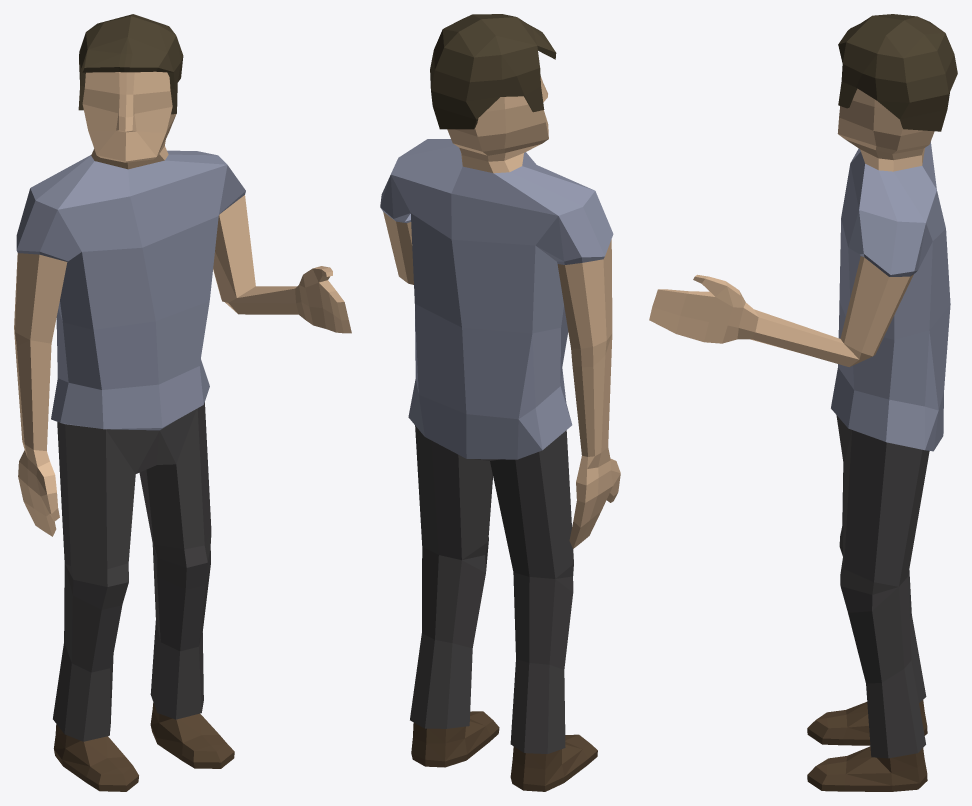
Rendered from Male_Crowd_Chatting.glb.
The picture shows the model from 3 angles, left to right: view 1: azimuth 30°, elevation 25°; view 2: azimuth 150°, elevation 25°; view 3: azimuth 270°, elevation 25°; orthographic projection. The views are drawn at different scales.
Parts seen in each view (by area): view 1: Male_Crowd_Chatting; view 2: Male_Crowd_Chatting; view 3: Male_Crowd_Chatting.
Part boxes in pixels (x1,y1,x2,y2): Male_Crowd_Chatting: [14, 14, 351, 791]; Male_Crowd_Chatting: [380, 14, 620, 791]; Male_Crowd_Chatting: [649, 14, 957, 791].
Size of the model in its own units: 0.5778 by 1.8 by 0.6786.
